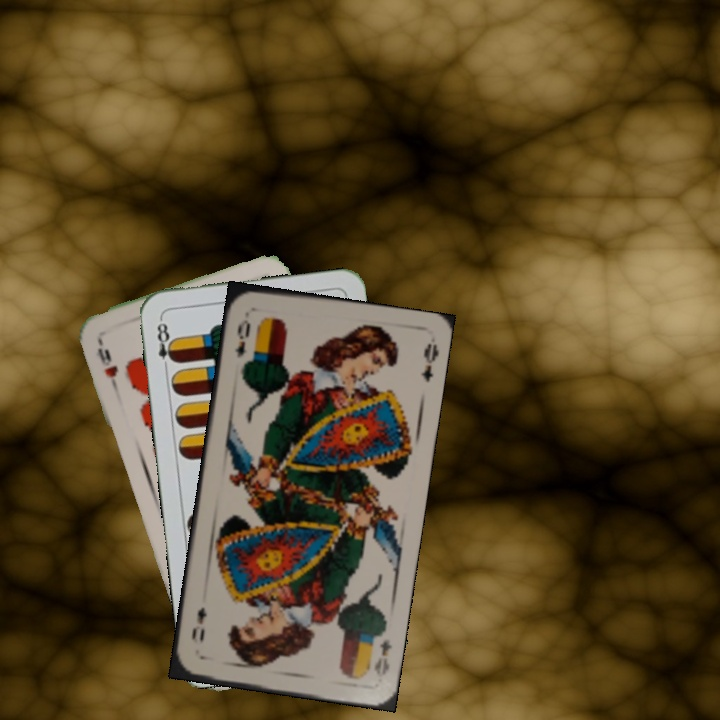E8: (153, 314, 179, 373)
EO: (230, 309, 253, 360), (370, 635, 394, 680)
H9: (91, 336, 121, 394)
